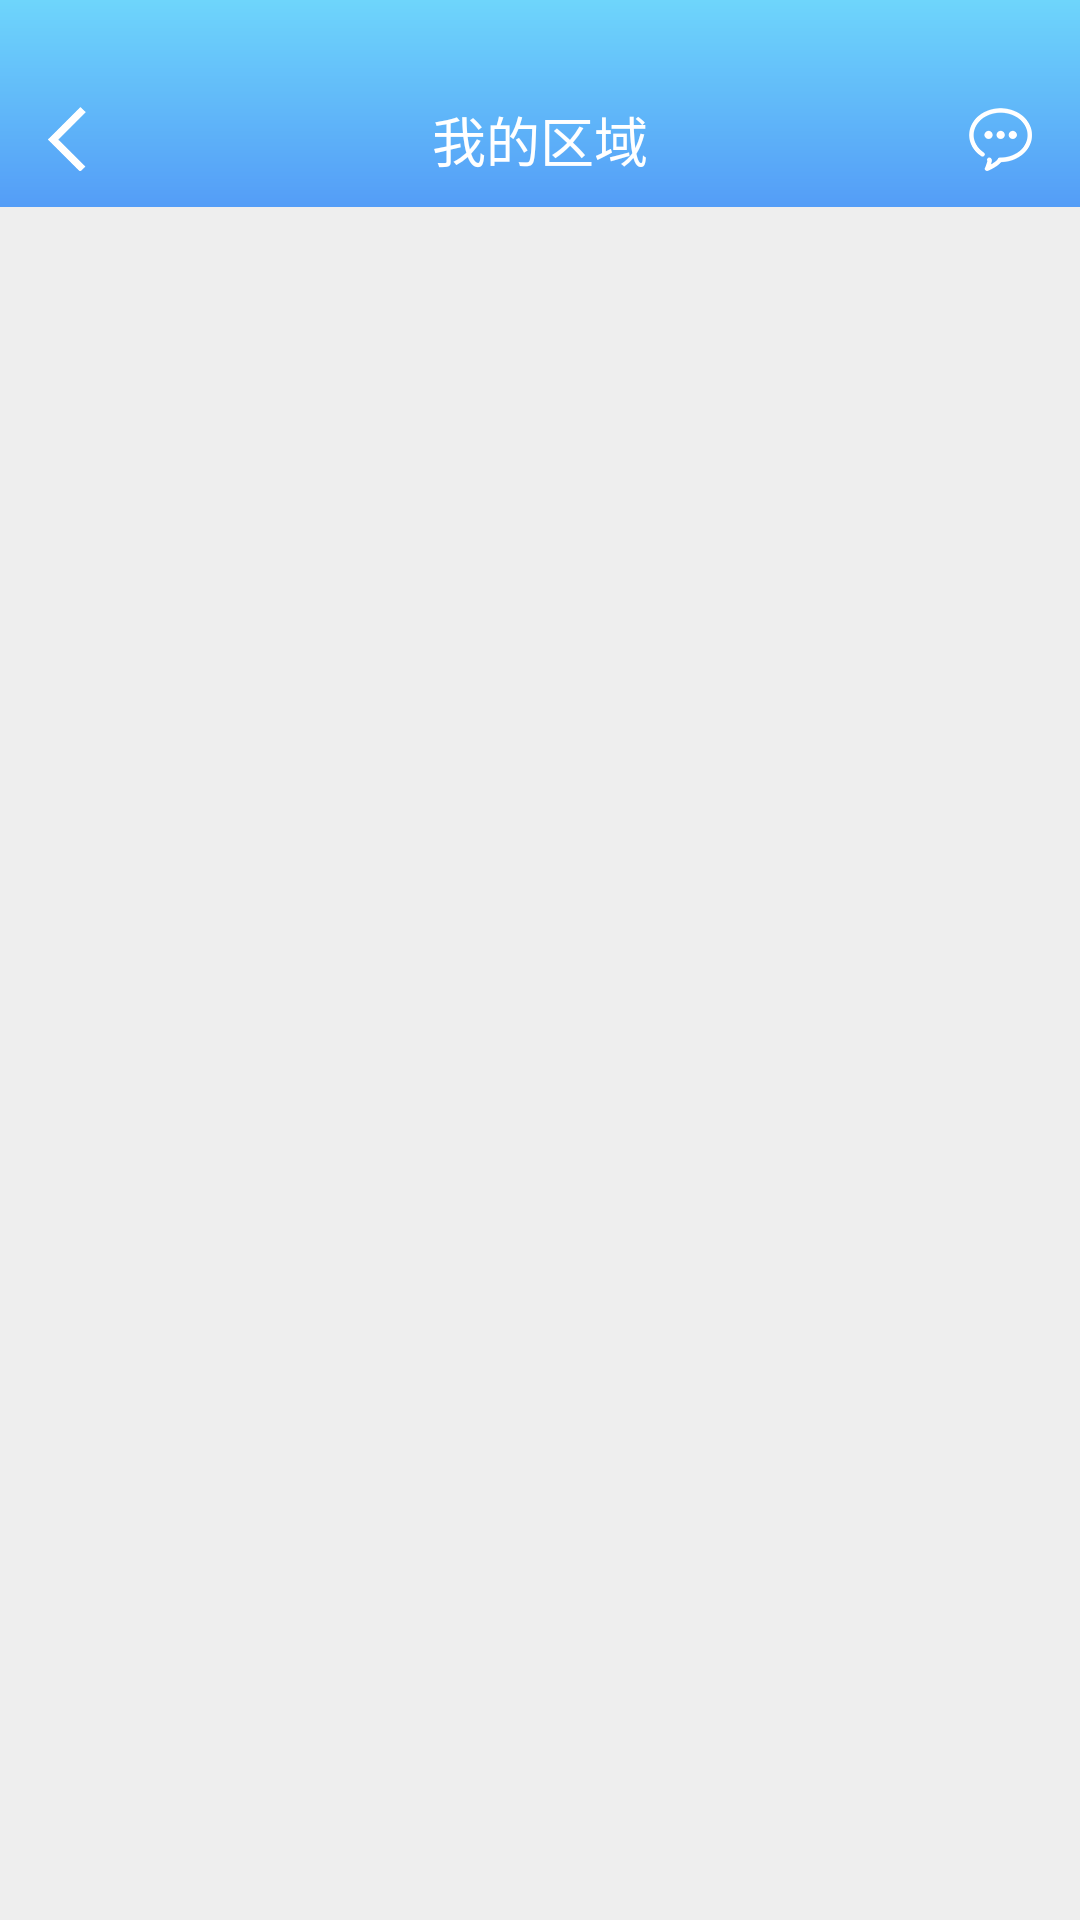

Where to tap for icons on this 1080 × 1920 app screen, as (x,y):
back: (67,139)
